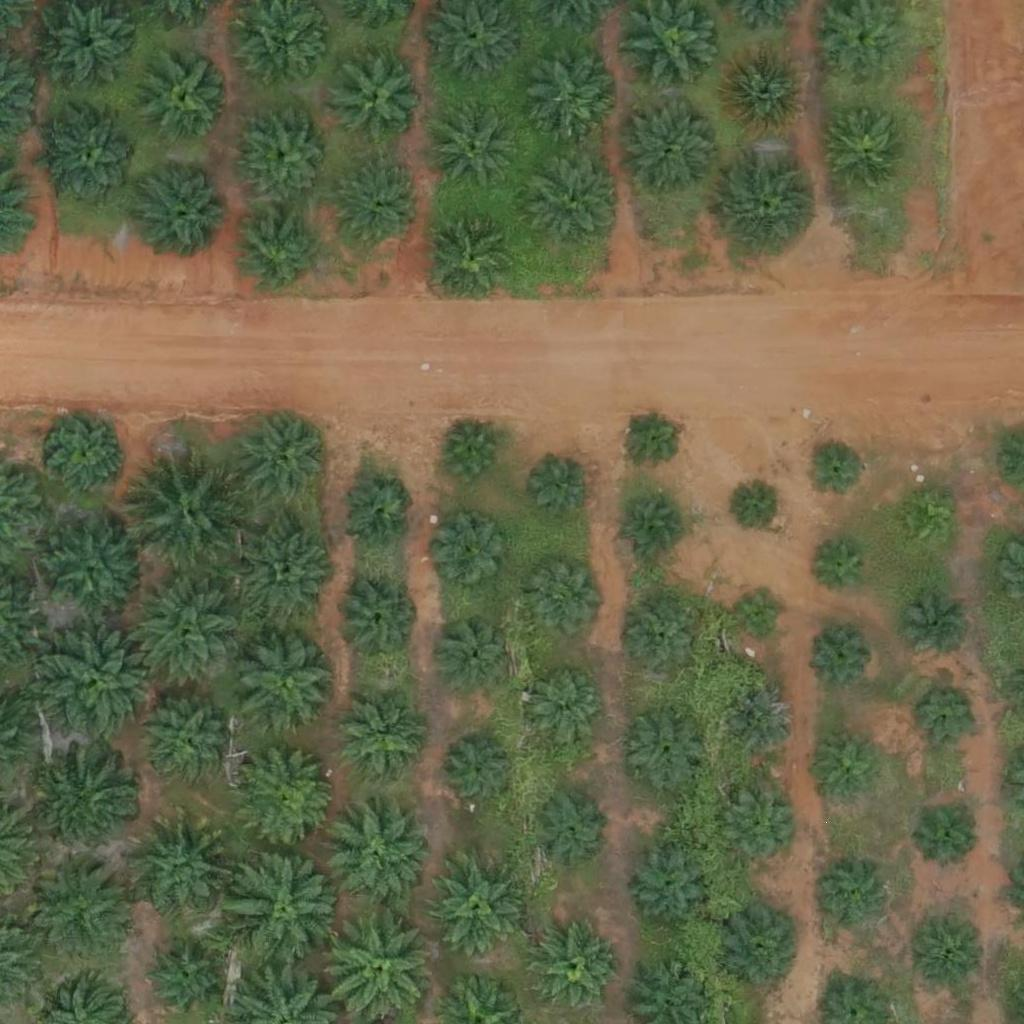Kelapa_Sawit: (36, 621, 161, 747), (127, 447, 252, 573), (123, 570, 248, 696), (225, 846, 350, 972), (521, 146, 621, 247), (621, 98, 721, 199), (720, 152, 820, 253), (44, 749, 144, 850), (32, 854, 132, 955), (135, 817, 235, 918), (43, 109, 143, 209), (135, 160, 235, 260), (237, 106, 337, 206), (42, 518, 142, 618), (232, 410, 332, 510), (236, 526, 336, 626), (236, 633, 336, 733), (238, 750, 338, 850), (329, 806, 429, 906), (423, 857, 523, 957), (623, 704, 711, 792), (718, 904, 806, 992), (40, 1, 128, 89), (334, 56, 422, 144), (336, 162, 424, 250), (432, 102, 520, 190), (429, 212, 517, 300), (721, 46, 809, 134), (826, 109, 914, 197), (338, 696, 426, 784), (627, 844, 715, 932), (333, 575, 420, 663), (240, 2, 327, 90), (143, 52, 230, 140), (237, 209, 324, 297), (536, 49, 623, 137), (144, 700, 231, 788), (532, 925, 619, 1013), (527, 666, 602, 742), (437, 614, 512, 690), (442, 733, 517, 809), (531, 789, 606, 865), (49, 415, 124, 491), (337, 475, 412, 551), (435, 517, 510, 592), (528, 559, 603, 634), (626, 603, 701, 678), (808, 863, 883, 938), (718, 789, 793, 864), (146, 943, 221, 1018), (725, 688, 800, 763), (897, 593, 972, 668), (911, 683, 986, 758), (909, 797, 984, 872), (912, 921, 987, 996), (620, 407, 683, 470), (621, 496, 684, 559), (818, 736, 881, 799), (895, 491, 958, 554), (440, 423, 502, 486), (530, 456, 592, 519), (805, 438, 867, 501), (809, 538, 871, 601), (809, 625, 871, 688), (735, 482, 785, 533), (734, 588, 784, 639)
